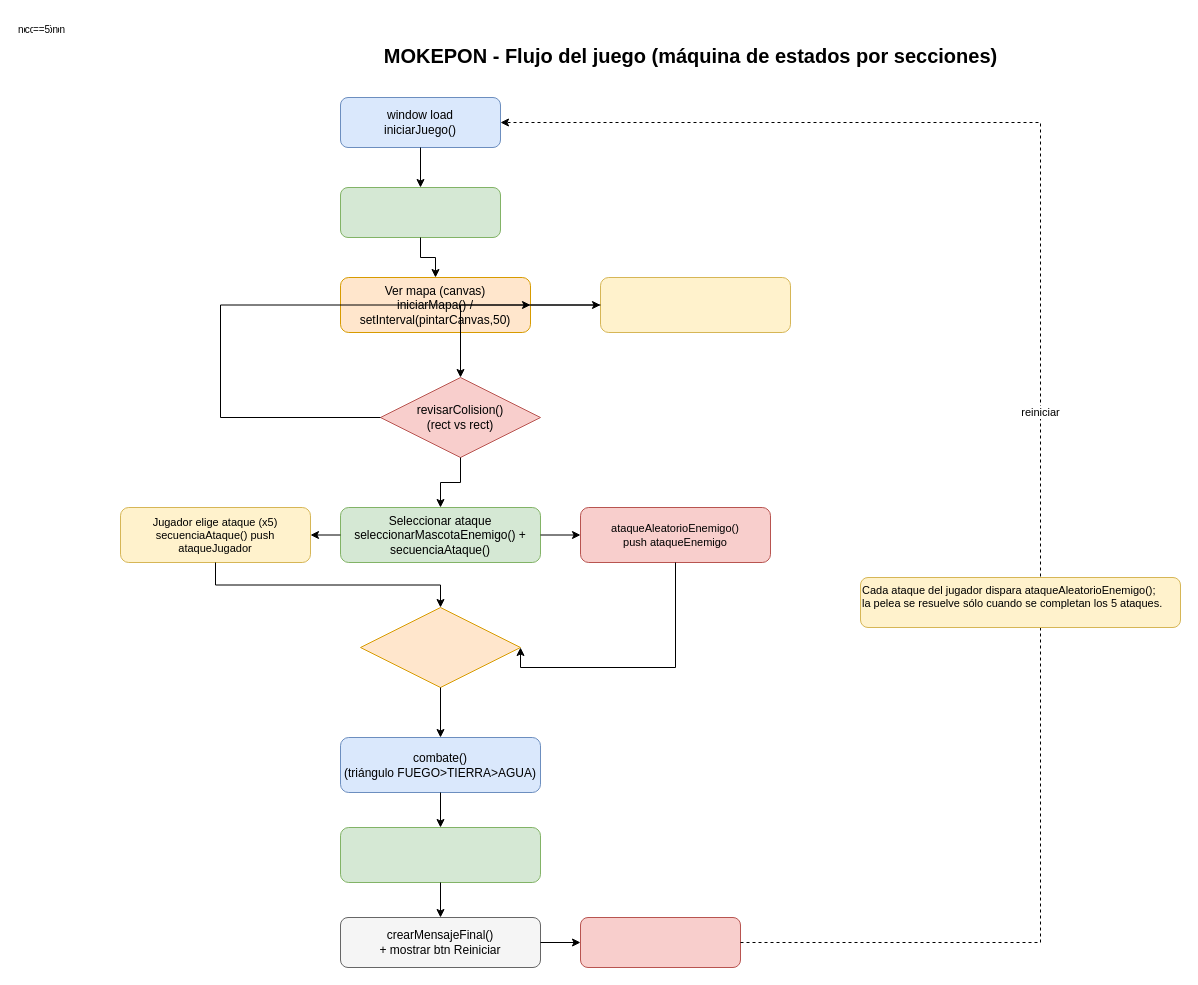
This 1198x985 diagram has some shape labels left out. Here are the shapes that lost their labels. From the top down, the box of each, then its label:
(340, 186, 500, 238): Seleccionar mascota seleccionarMascotaJugador()
(600, 276, 790, 332): Mover con teclas / botones (velocidadX/Y +-5)
(360, 606, 520, 688): iniciarPelea() if ataqueJugador.length==5
(340, 826, 540, 882): revisarVidas() victoriasJugador vs victoriasEnemigo
(580, 916, 740, 968): reiniciarJuego() location.reload()
